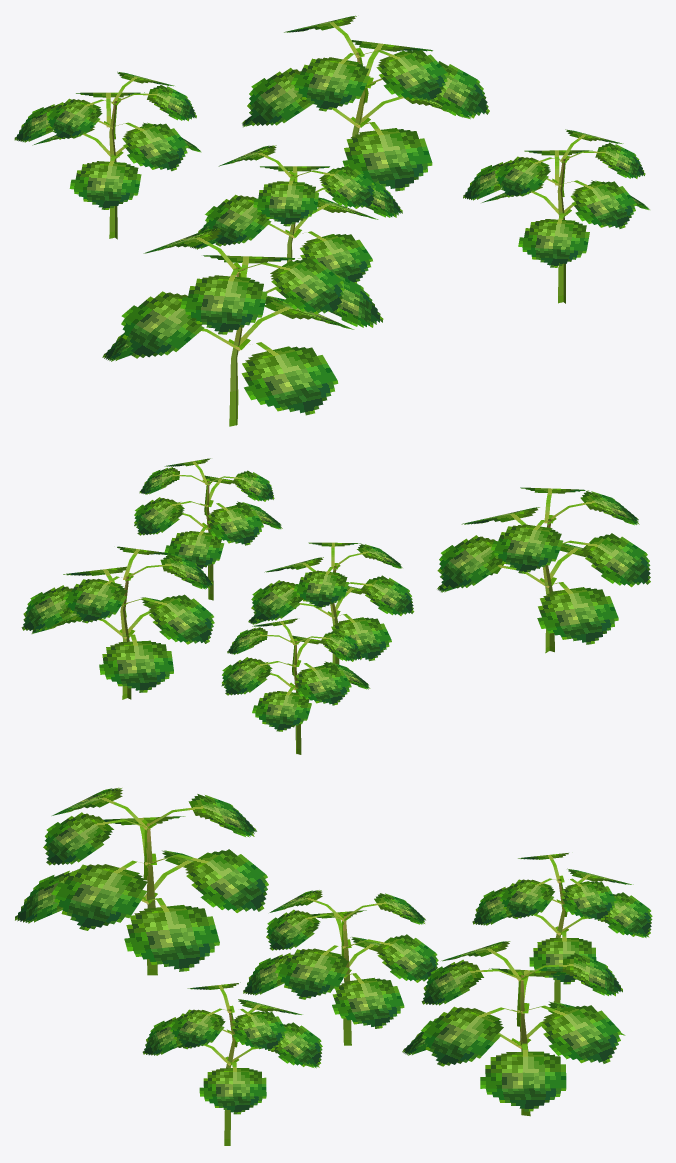
Rendered from INST_MIRK_PLANT_BROADLEAF_GROUP.fbx.
3 views of the same model, one above another, from view 1: azimuth 30°, elevation 25°; view 2: azimuth 150°, elevation 25°; view 3: azimuth 270°, elevation 25° (orthographic). The views are drawn at different scales.
Visible parts, largest first — view 1: INST_MIRK_PLANT_BROADLEAF_GROUP; view 2: INST_MIRK_PLANT_BROADLEAF_GROUP; view 3: INST_MIRK_PLANT_BROADLEAF_GROUP.
Part boxes in pixels (bbox=[...]): INST_MIRK_PLANT_BROADLEAF_GROUP: bbox=[14, 15, 649, 426]; INST_MIRK_PLANT_BROADLEAF_GROUP: bbox=[21, 458, 650, 754]; INST_MIRK_PLANT_BROADLEAF_GROUP: bbox=[15, 787, 652, 1145].
Size of the model in its own units: 68897 by 19555 by 70502.
1 material, 1 textured.
